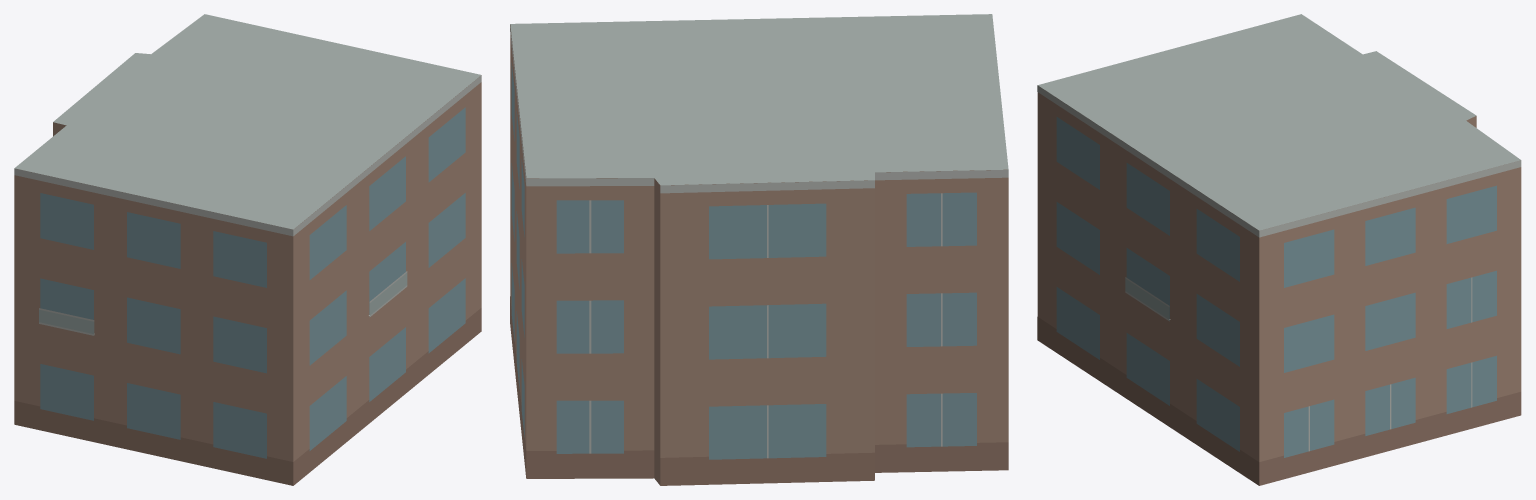
File: survey-upis-32625340.glb
3 views of the same model, side by side, from view 1: azimuth 30°, elevation 25°; view 2: azimuth 150°, elevation 25°; view 3: azimuth 270°, elevation 25° (orthographic). The views are drawn at different scales.
Parts seen in each view (by area): view 1: survey-upis-32625340.tmp; view 2: survey-upis-32625340.tmp; view 3: survey-upis-32625340.tmp.
Part boxes in pixels (bbox=[...]): survey-upis-32625340.tmp: bbox=[14, 14, 481, 485]; survey-upis-32625340.tmp: bbox=[510, 14, 1008, 485]; survey-upis-32625340.tmp: bbox=[1037, 14, 1521, 485].
Bounding box in the file's own units: 16.68 × 9.15 × 15.73.
